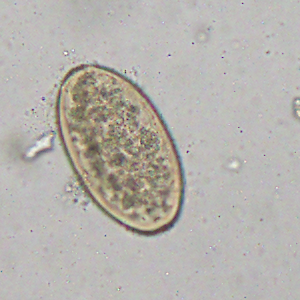Fasciola_hepatica_egg: (54, 62, 186, 237)
